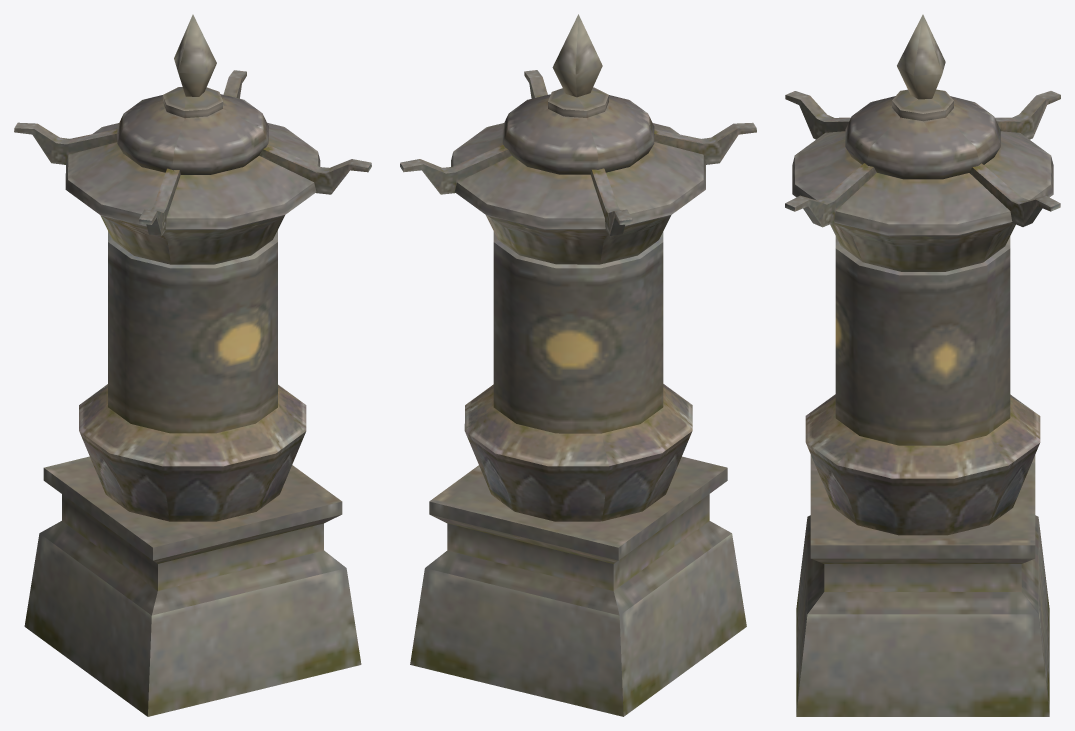
The model's file is SC_ZGFludeng01.FBX.
3 views of the same model, side by side, from view 1: azimuth 30°, elevation 25°; view 2: azimuth 150°, elevation 25°; view 3: azimuth 270°, elevation 25° (orthographic). The views are drawn at different scales.
Visible parts, largest first — view 1: SC_ZGFludeng01; view 2: SC_ZGFludeng01; view 3: SC_ZGFludeng01.
Boxes of the visible parts, box(x1,y1,x2,y2) form: SC_ZGFludeng01: box(14, 14, 371, 716); SC_ZGFludeng01: box(400, 14, 756, 716); SC_ZGFludeng01: box(785, 14, 1060, 716).
Size of the model in its own units: 50.72 by 131 by 50.6.
